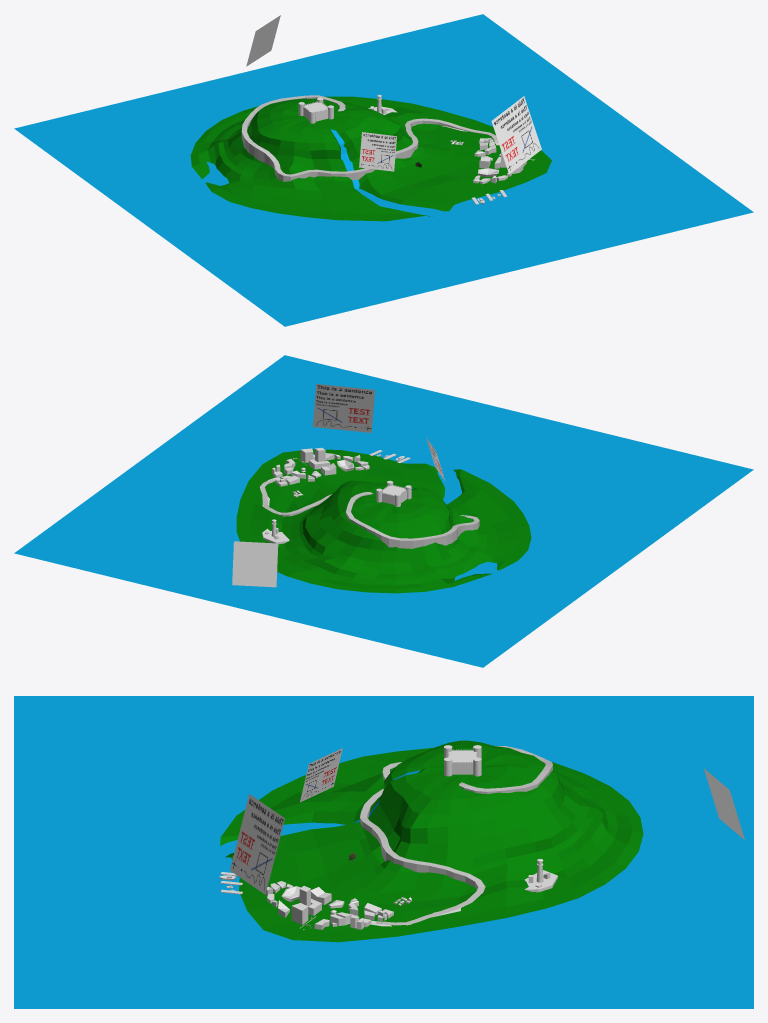
Rendered from Island.fbx.
3 renders of one model, top to bottom at view 1: azimuth 30°, elevation 25°; view 2: azimuth 150°, elevation 25°; view 3: azimuth 270°, elevation 25°, orthographic. The views are drawn at different scales.
Visible parts, largest first — view 1: Plane, Island, Road, Plane.007, Plane.005, Plane.006; view 2: Plane, Island, Plane.007, Plane.006, Road; view 3: Plane, Island, Plane.007, Road, Plane.005, Plane.006, Castle.
Part boxes in pixels (left/top/right/bottom): Plane: left=14, top=14, right=753, bottom=326; Island: left=190, top=96, right=551, bottom=221; Road: left=241, top=95, right=498, bottom=181; Plane.007: left=491, top=96, right=541, bottom=174; Plane.005: left=359, top=132, right=396, bottom=171; Plane.006: left=246, top=15, right=280, bottom=66; Plane: left=14, top=355, right=753, bottom=667; Island: left=236, top=449, right=531, bottom=593; Plane.007: left=312, top=384, right=374, bottom=432; Plane.006: left=232, top=541, right=278, bottom=587; Road: left=260, top=479, right=479, bottom=548; Plane: left=14, top=696, right=753, bottom=1008; Island: left=220, top=740, right=643, bottom=942; Plane.007: left=230, top=794, right=284, bottom=894; Road: left=360, top=745, right=552, bottom=925; Plane.005: left=300, top=748, right=342, bottom=802; Plane.006: left=703, top=768, right=744, bottom=839; Castle: left=448, top=749, right=477, bottom=774.
Size of the model in its own units: 300000 by 54160 by 300000.
